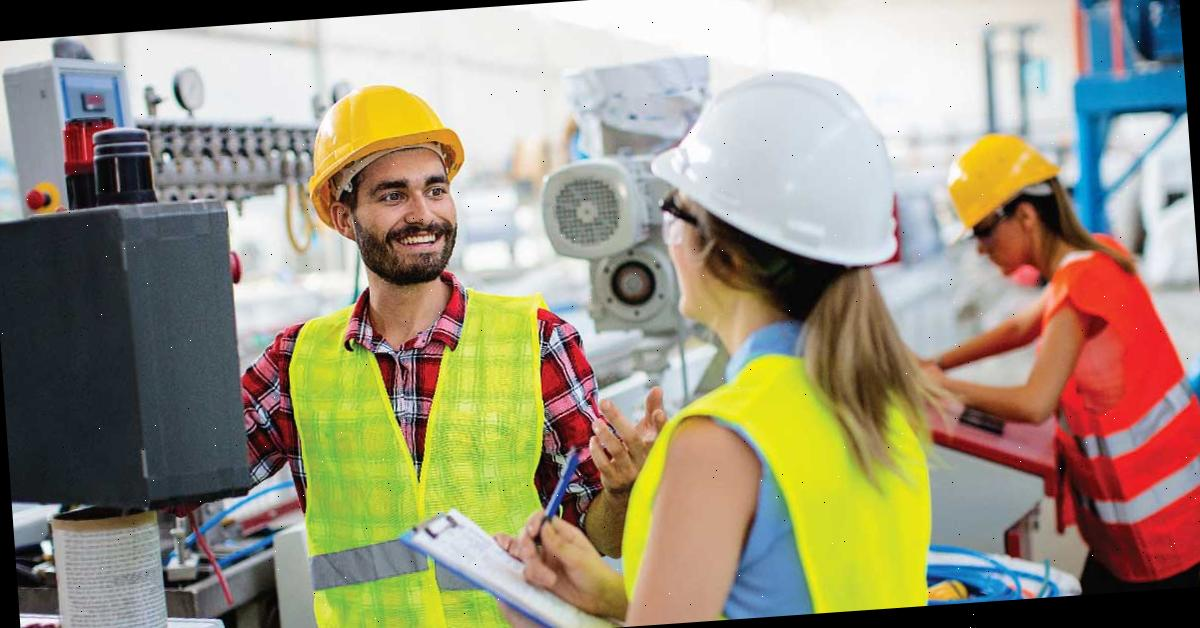helmet: (641, 62, 909, 286), (304, 80, 475, 234), (924, 126, 1074, 250)
wear: (614, 322, 949, 626), (282, 292, 578, 628), (1053, 253, 1200, 576)
